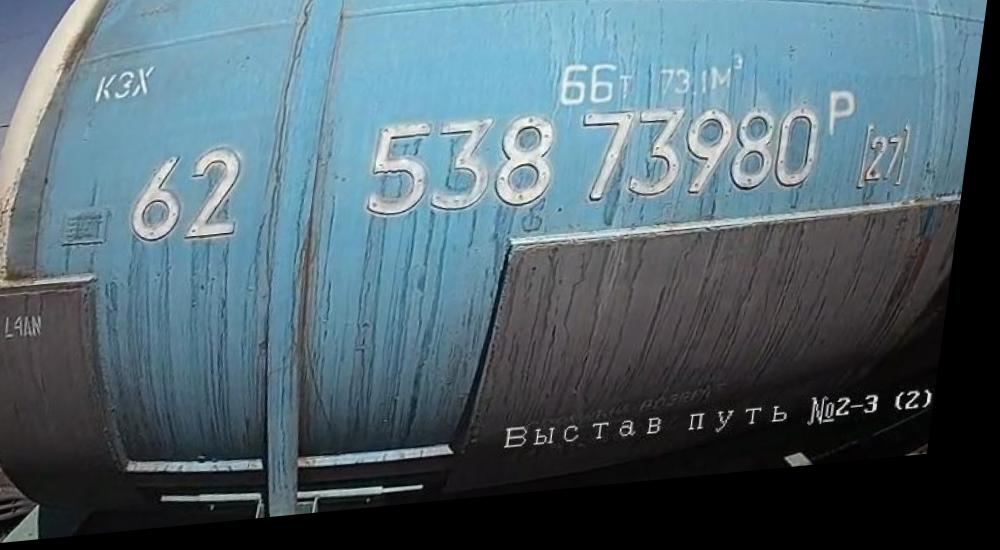Wagon-number: (362, 98, 834, 245)
